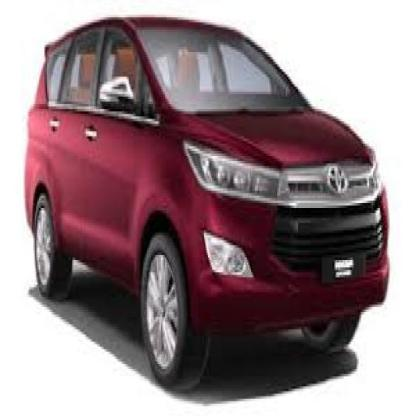car: (19, 8, 396, 396)
